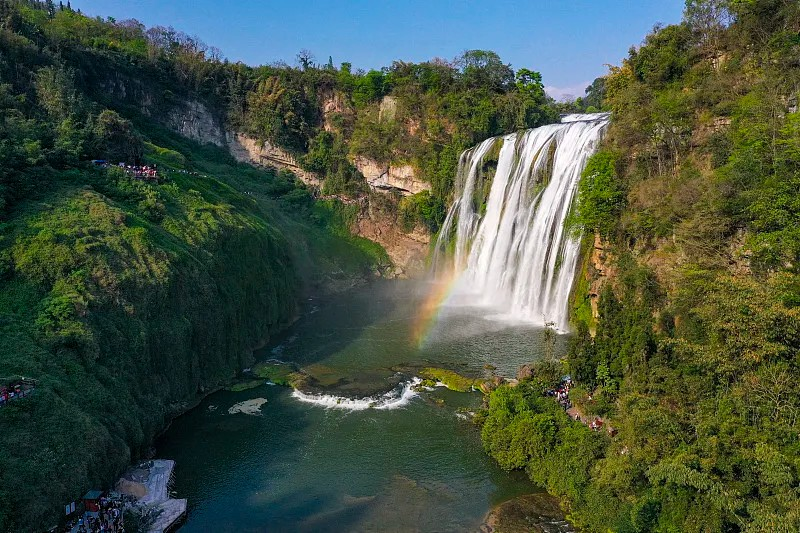Huangguoshu: (442, 112, 613, 335)
